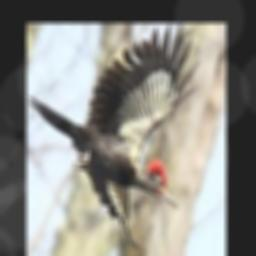Woodpecker: (28, 23, 200, 247)
